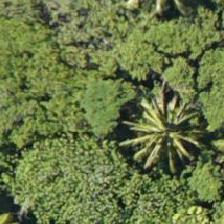coconut_tree: (115, 84, 205, 174)
